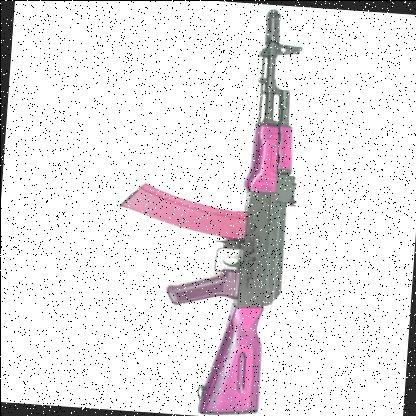rifle: (113, 9, 333, 416)
